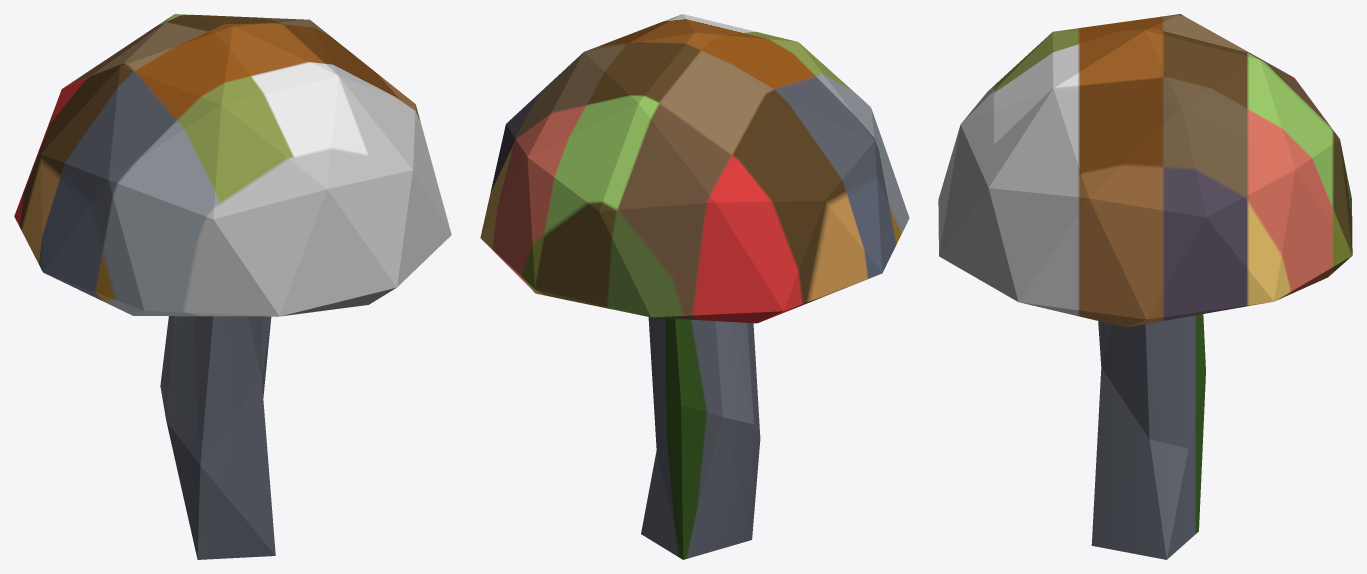
The model's file is Mushroom_12.fbx.
The picture shows the model from 3 angles, left to right: view 1: azimuth 30°, elevation 25°; view 2: azimuth 150°, elevation 25°; view 3: azimuth 270°, elevation 25°; orthographic projection.
Visible parts, largest first — view 1: Mushroom_12; view 2: Mushroom_12; view 3: Mushroom_12.
Part boxes in pixels (x1,y1,x2,y2): Mushroom_12: [14, 14, 451, 559]; Mushroom_12: [480, 14, 909, 559]; Mushroom_12: [938, 14, 1352, 559].
Size of the model in its own units: 0.5647 by 0.728 by 0.5379.
